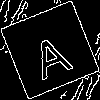A: (25, 25, 75, 81)
